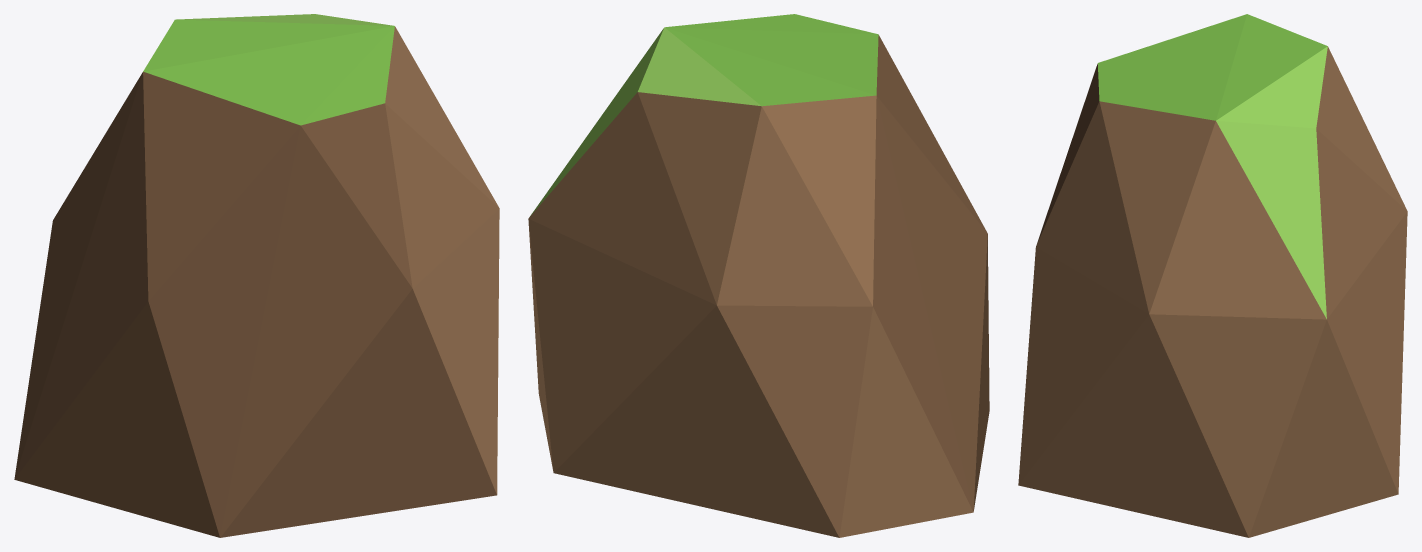
Rendered from rock_smallE.glb.
3 renders of one model, left to right at view 1: azimuth 30°, elevation 25°; view 2: azimuth 150°, elevation 25°; view 3: azimuth 270°, elevation 25°, orthographic. The views are drawn at different scales.
Parts seen in each view (by area): view 1: rock_smallE; view 2: rock_smallE; view 3: rock_smallE.
Part boxes in pixels (left/top/right/bottom): rock_smallE: left=14, top=14, right=499, bottom=537; rock_smallE: left=528, top=14, right=989, bottom=537; rock_smallE: left=1018, top=14, right=1407, bottom=537.
Size of the model in its own units: 0.3161 by 0.2575 by 0.2471.
1 material, 1 textured.
